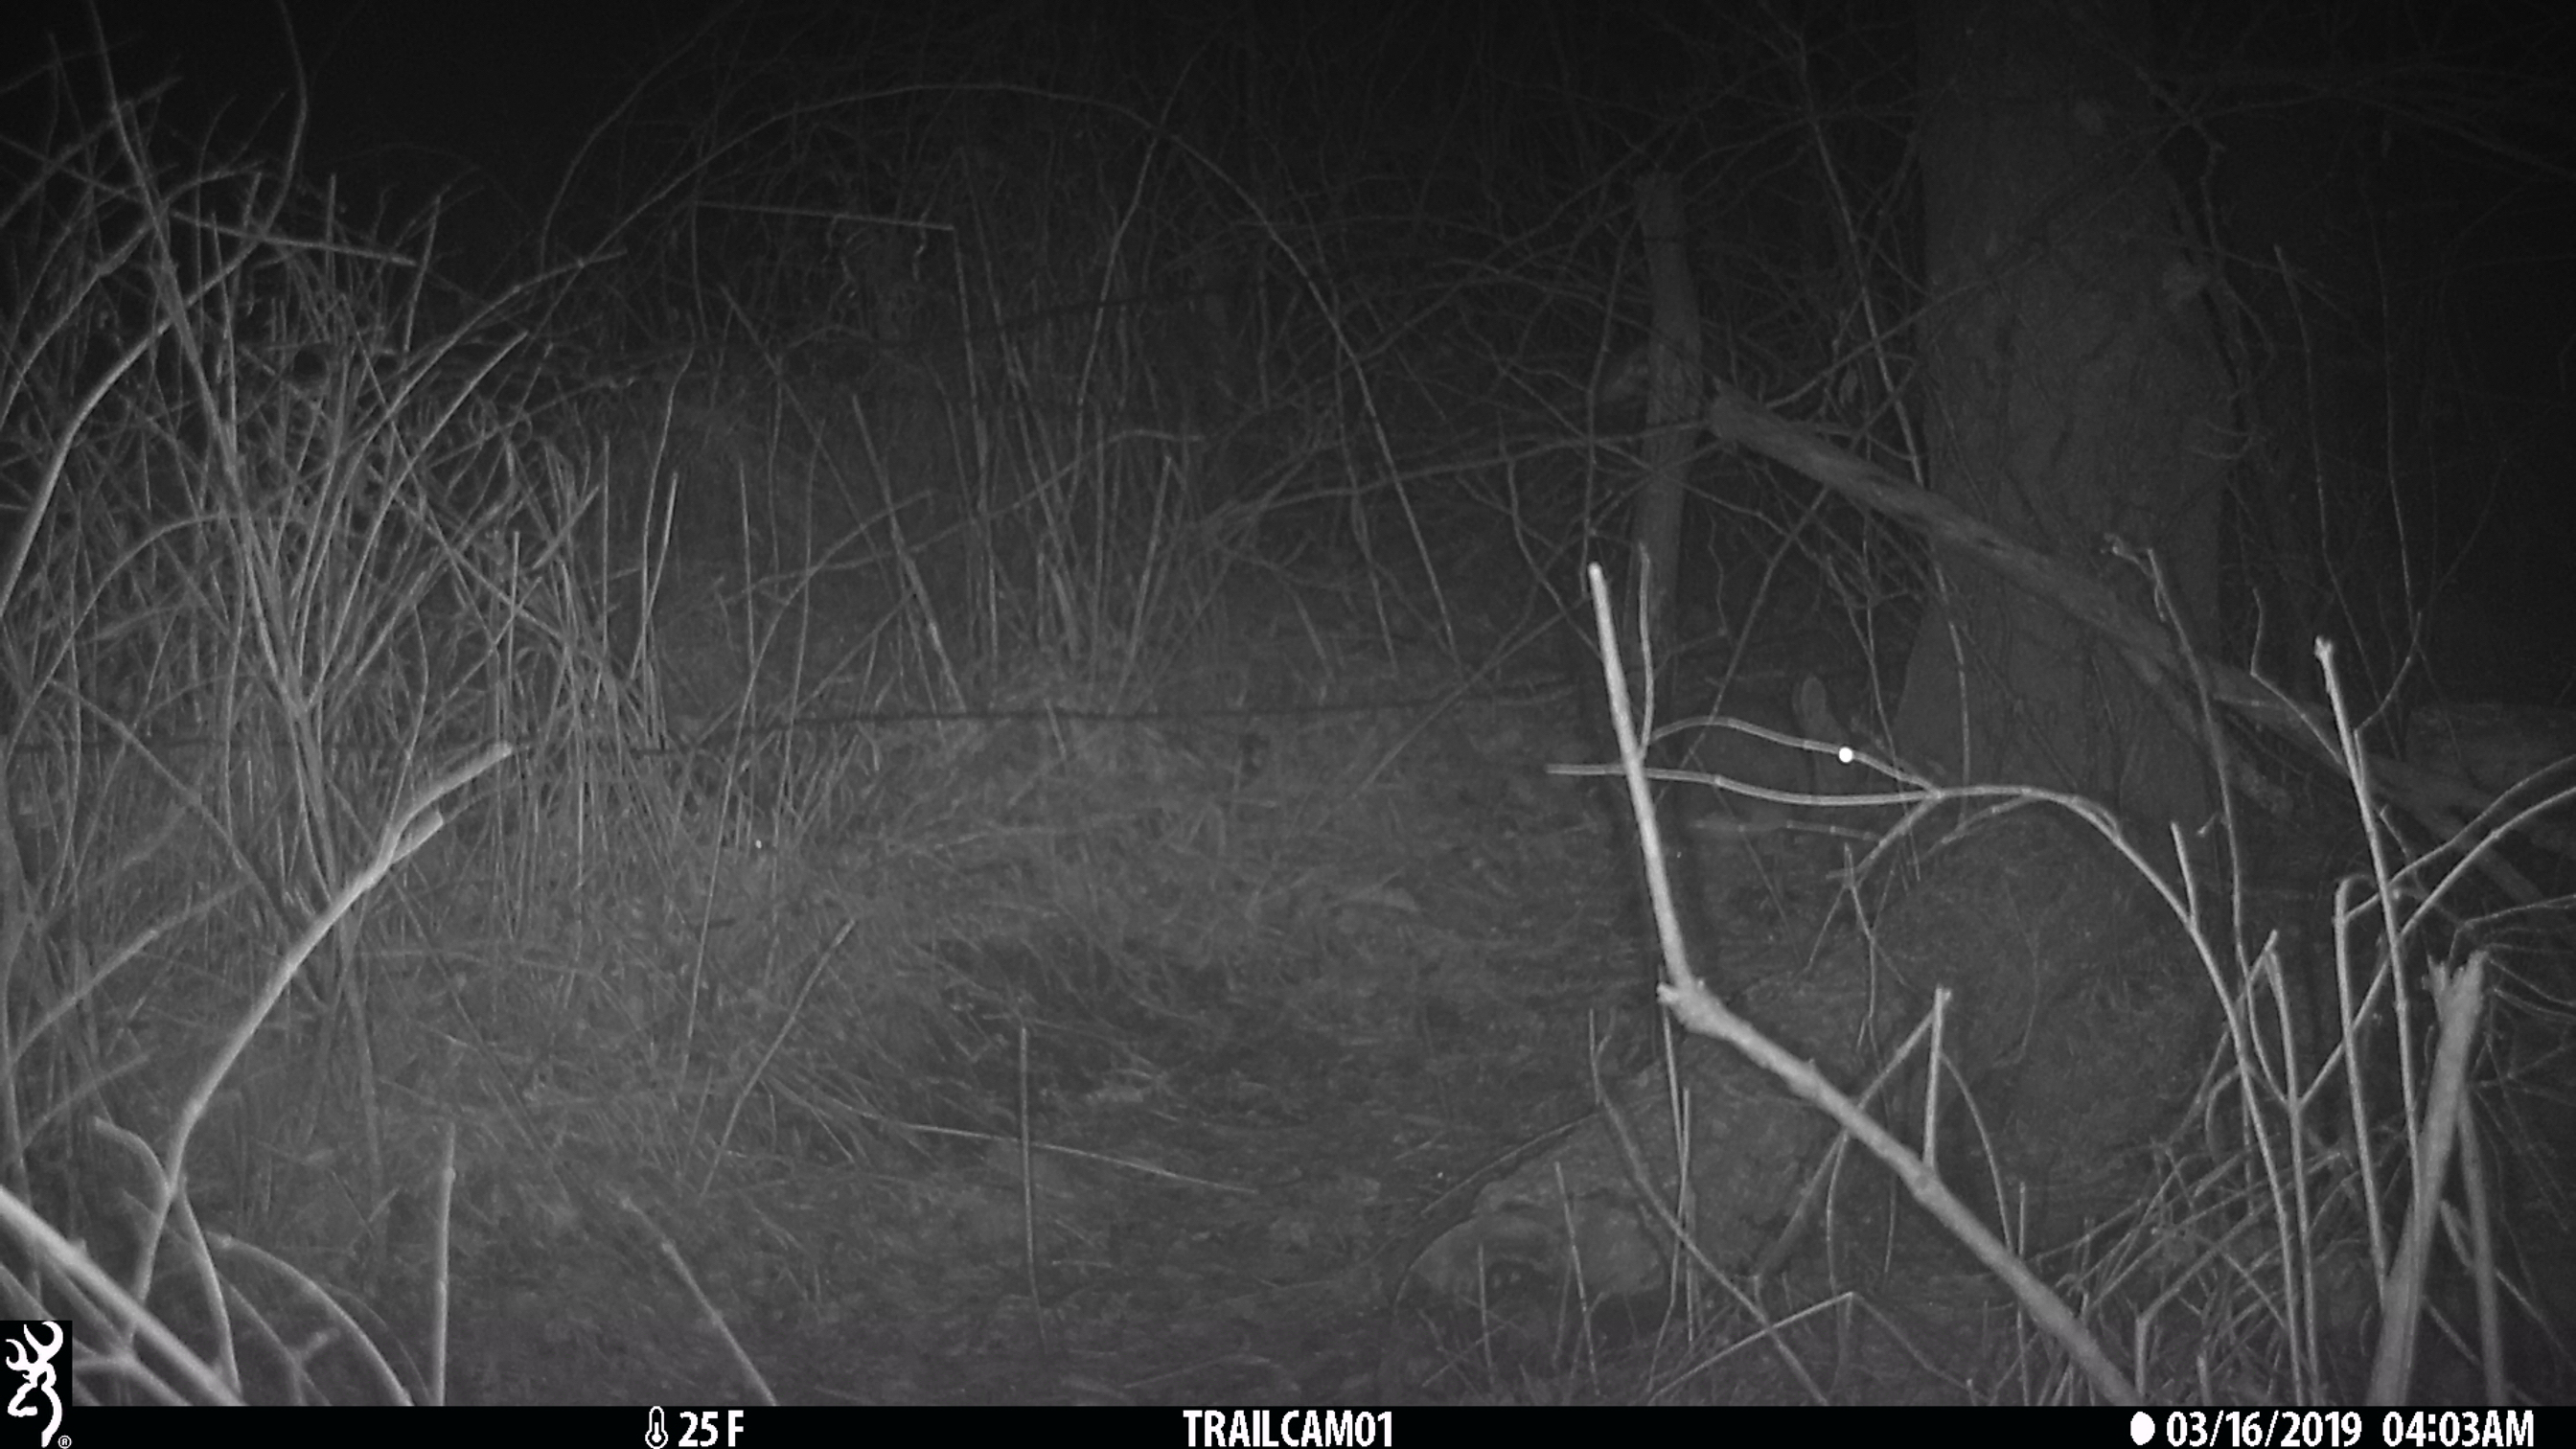Rabbit: (1629, 669, 1879, 835)
